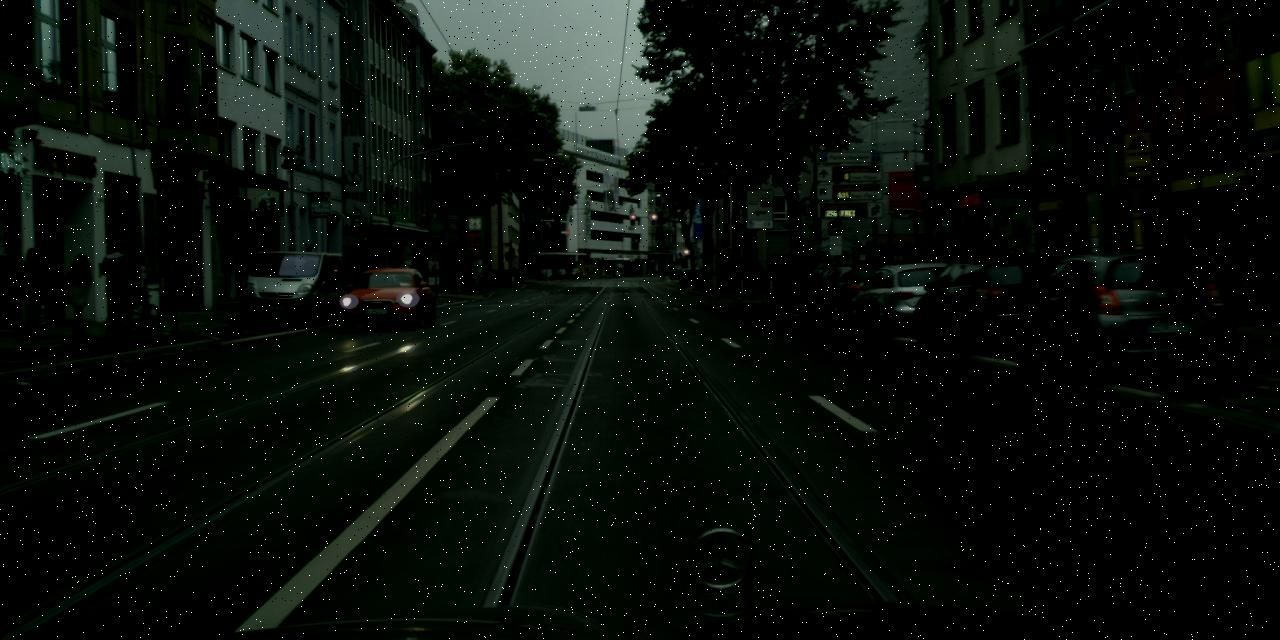ped: (99, 242, 137, 335), (16, 247, 51, 334), (63, 252, 98, 336), (988, 234, 1016, 304), (1045, 242, 1070, 304), (822, 258, 835, 290), (804, 259, 816, 286), (768, 260, 779, 287), (753, 261, 764, 286), (661, 265, 665, 276)
